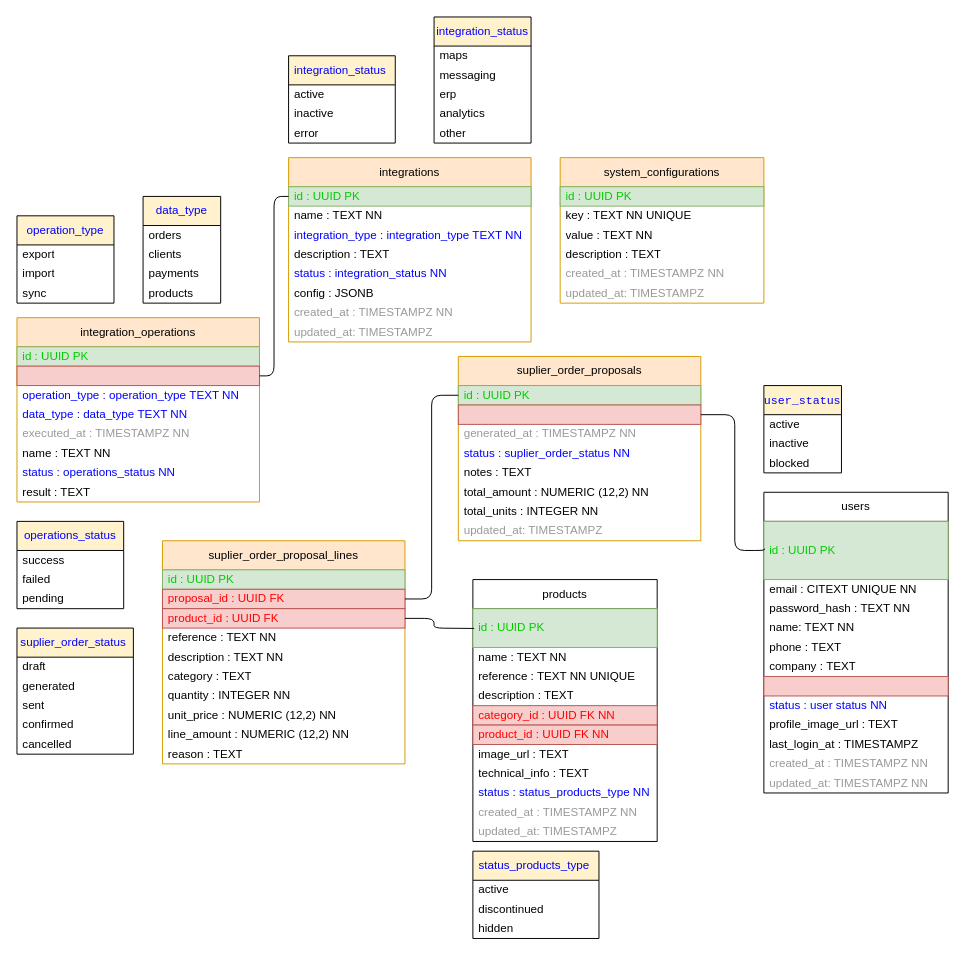
Image size: 965x955. Some labels were removed from this diagram. Each missing label, with the centre of its shape:
genereted_by_user_id : UUID FK: the point at 579,414
integration_id : UUID FK: the point at 137,375
role_id : SMALLINT NN FK: the point at 855,686
